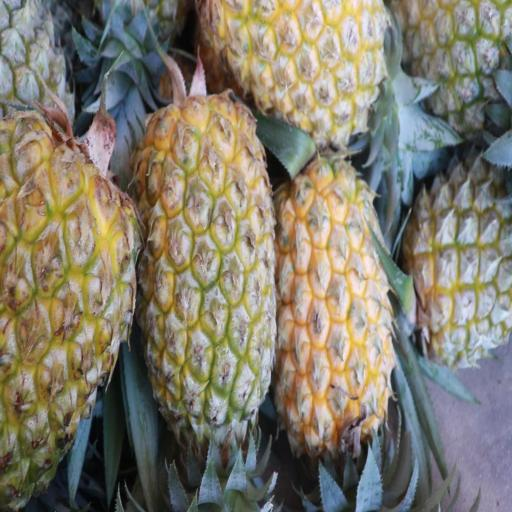------------------------------: (414, 158, 512, 366)
Pineapple - v8 v1: (0, 107, 140, 507), (136, 105, 276, 449), (278, 158, 394, 477), (204, 0, 387, 145)
